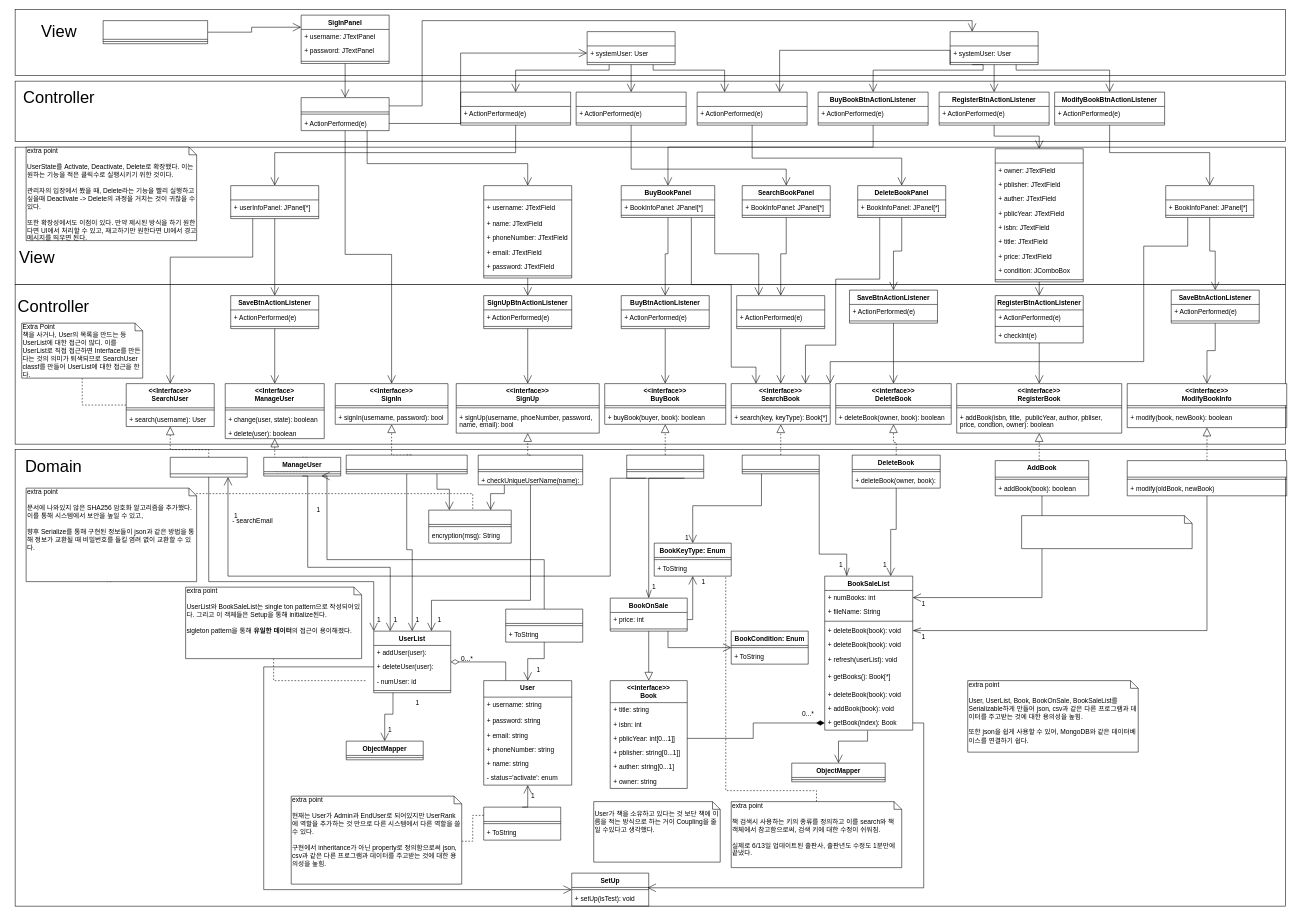
The diagram is 1296 pixels wide and 917 high, and some of its shapes have lost their labels. The box of each missing label's shape, as (x1, y1, x2, y2) in pixels:
AdminMenuPanel: (587, 31, 675, 65)
BookSearchBtnActionListener: (576, 92, 686, 125)
BuyBook: (626, 455, 704, 478)
DeleteBookBtnActionListener: (697, 92, 807, 125)
EndUerMenuPanel: (950, 31, 1038, 65)
MainFrame: (103, 20, 208, 44)
ManageUserBtnActionListener: (460, 92, 571, 125)
ManageUserPanel: (230, 185, 319, 219)
ModifyBookInfo: (1127, 460, 1287, 496)
ModifyBookPanel: (1165, 185, 1254, 218)
RegisterBookPanel: (995, 148, 1083, 282)
SearchBook: (742, 455, 819, 474)
SearchBtnActionListener: (736, 295, 825, 329)
SearchUser: (170, 457, 247, 477)
SHA256: (428, 510, 511, 543)
SignIn: (346, 455, 467, 474)
SignInBtnActionListener: (301, 97, 389, 131)
SignUp: (478, 455, 583, 485)
SignUpPanel: (483, 185, 572, 278)
UserRank: Enum: (483, 807, 561, 840)
UserState: Enum: (505, 609, 583, 642)
각각의 기능들을 Interface로 구현해 UI가 Non-UI에 미치는 영향을 줄였다.: (1021, 515, 1192, 549)
